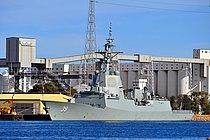MIL_Ship: (41, 36, 194, 121)
